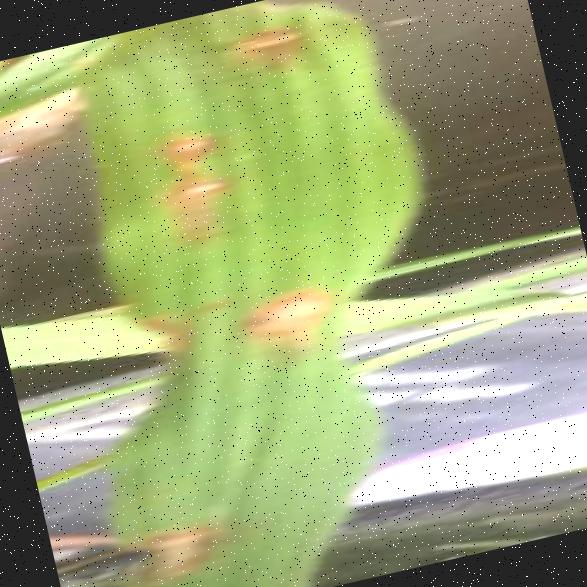Leaf_smut: (220, 259, 350, 370), (108, 495, 248, 587), (207, 1, 326, 101), (150, 158, 248, 248), (144, 106, 238, 177)
